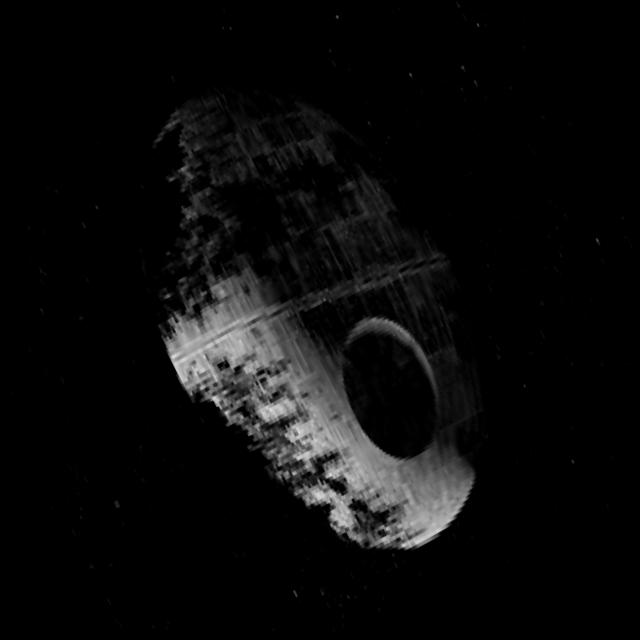death-stars: (152, 73, 489, 552)
